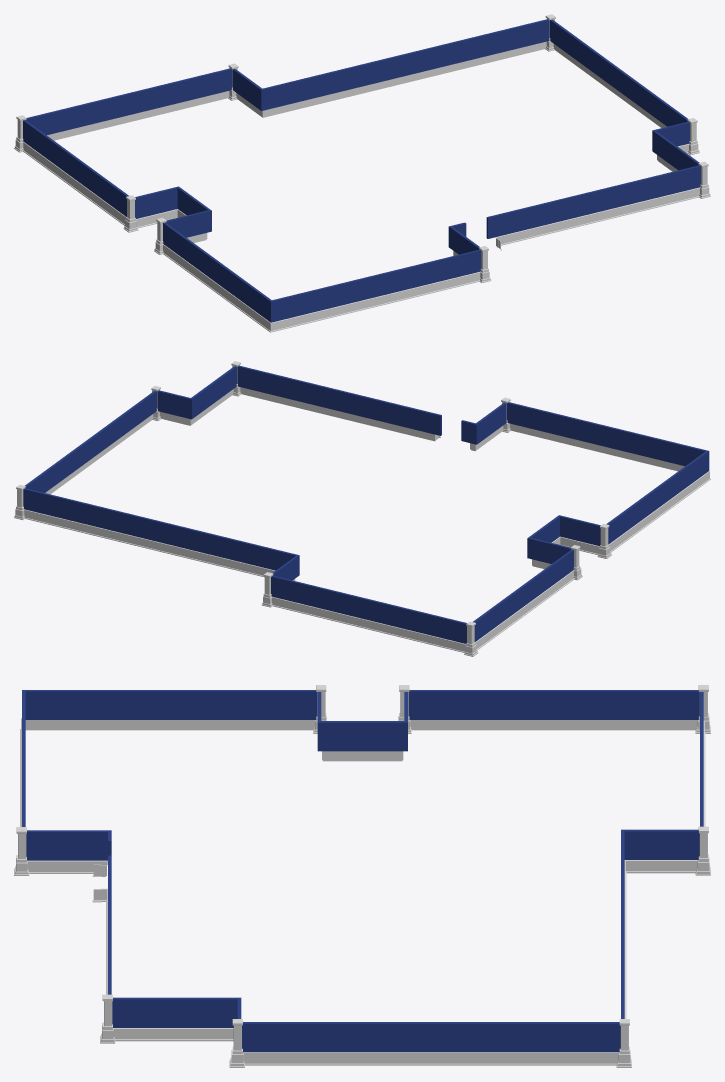
Rendered from Walls.fbx.
3 views of the same model, one above another, from view 1: azimuth 30°, elevation 25°; view 2: azimuth 150°, elevation 25°; view 3: azimuth 270°, elevation 25° (orthographic). The views are drawn at different scales.
Visible parts, largest first — view 1: CR.001, Academy_bottom; view 2: CR.001, Academy_bottom; view 3: CR.001, Academy_bottom.
Part boxes in pixels (bbox=[...]): CR.001: bbox=[23, 19, 700, 322]; Academy_bottom: bbox=[23, 41, 699, 332]; CR.001: bbox=[23, 365, 709, 643]; Academy_bottom: bbox=[24, 387, 710, 652]; CR.001: bbox=[22, 690, 703, 1052]; Academy_bottom: bbox=[20, 718, 705, 1065].
Size of the model in its own units: 7645 by 459 by 6621.
